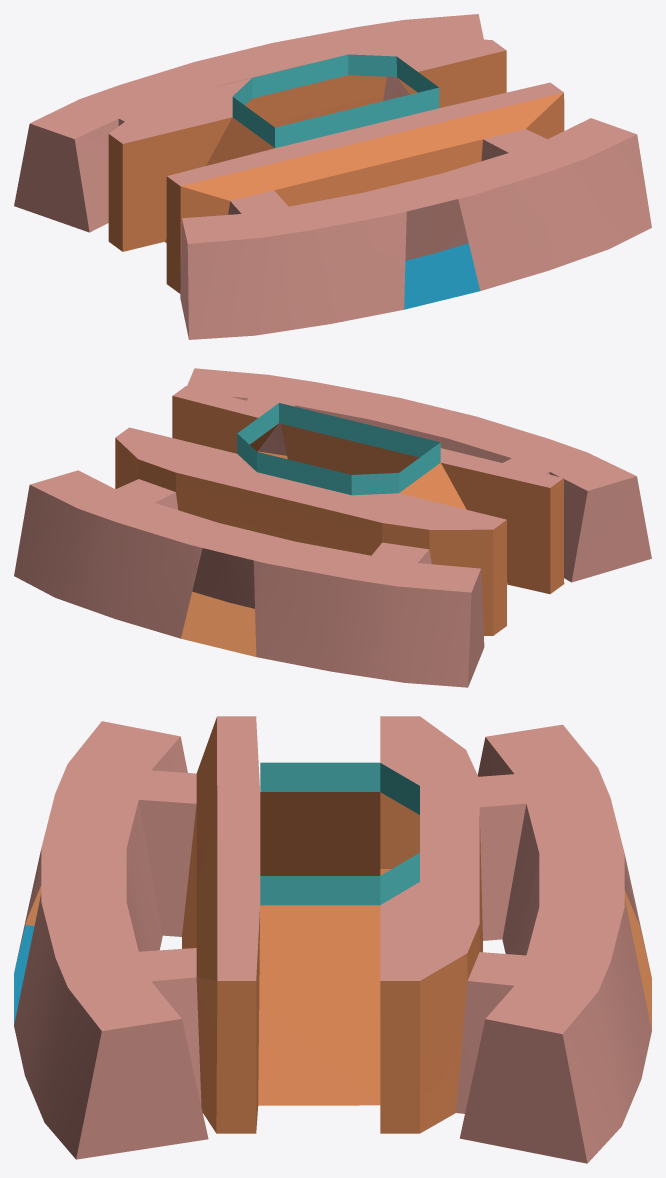
File: cluster_13.fbx
3 renders of one model, top to bottom at view 1: azimuth 30°, elevation 25°; view 2: azimuth 150°, elevation 25°; view 3: azimuth 270°, elevation 25°, orthographic. The views are drawn at different scales.
Parts seen in each view (by area): view 1: cluster_13; view 2: cluster_13; view 3: cluster_13.
Part boxes in pixels (x1=…): cluster_13: x1=14, y1=14, x2=651, y2=339; cluster_13: x1=14, y1=368, x2=651, y2=687; cluster_13: x1=14, y1=716, x2=651, y2=1163.
Size of the model in its own units: 75770 by 19905 by 63284.
